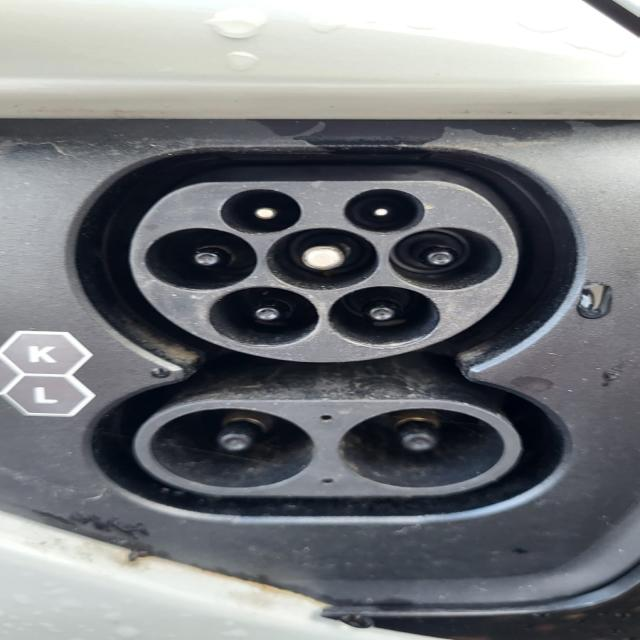inlet: (130, 181, 519, 362)
inlet-above-left: (219, 189, 303, 234)
inlet-above-right: (344, 189, 425, 234)
inlet-below-left: (211, 288, 322, 346)
inlet-below-right: (329, 286, 441, 347)
inlet-circle: (267, 228, 377, 290)
inlet-circle-left: (146, 228, 257, 290)
inlet-circle-right: (388, 226, 501, 291)
inlet-minus: (338, 409, 504, 487)
inlet-plus: (151, 408, 314, 487)
